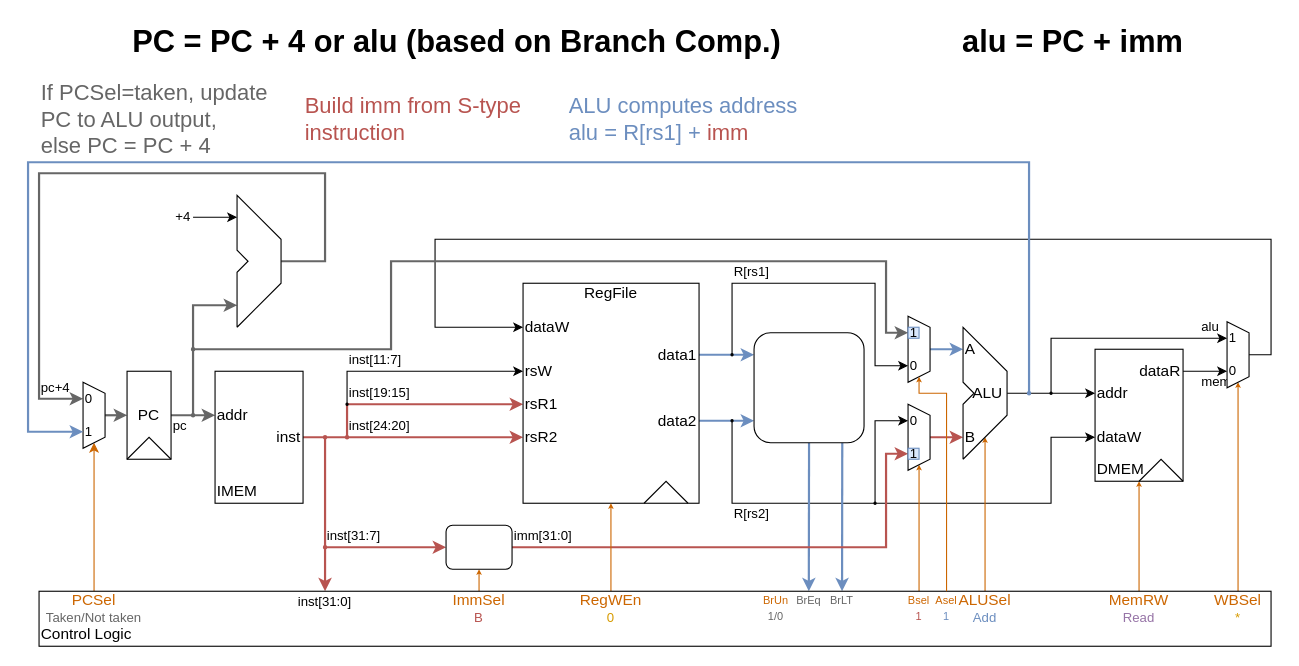
Some shapes in this 1299 by 666 pixel diagram are drawn without their labels. Here are the shapes that lost their labels. From the top down, the centre of each, then its label:
At point 258,283: "Add".
At point 808,387: "Branch Comp.".
At point 478,546: "Imm. Gen".
